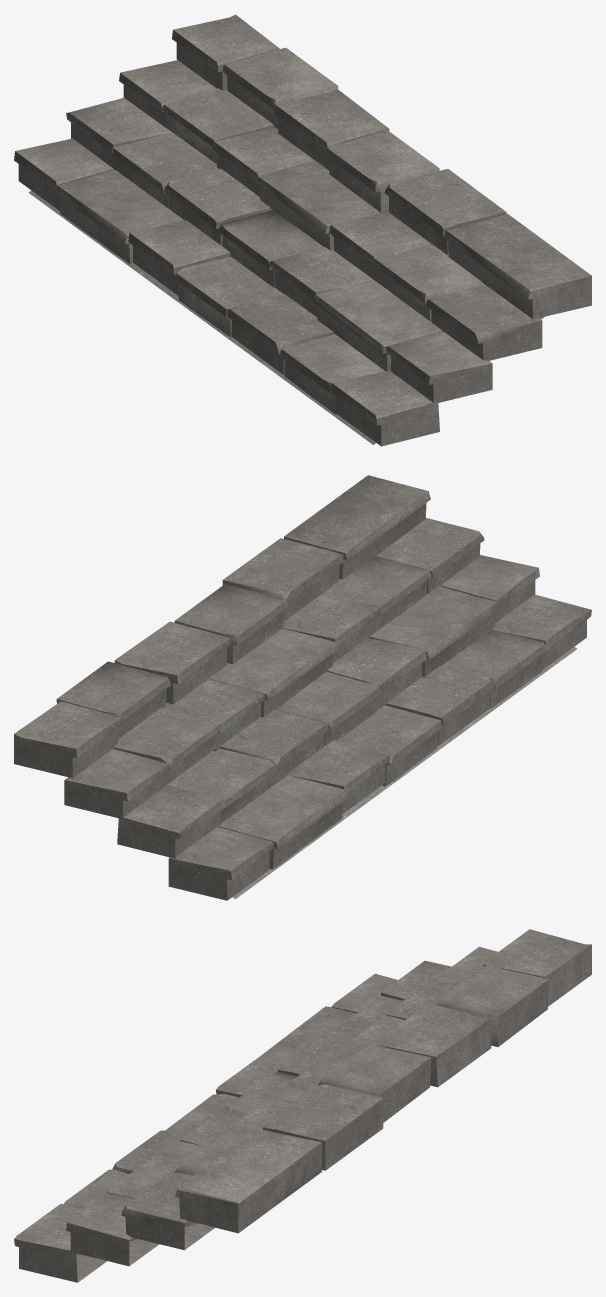
File: SM_Stairs_B_01.fbx
3 renders of one model, top to bottom at view 1: azimuth 30°, elevation 25°; view 2: azimuth 150°, elevation 25°; view 3: azimuth 330°, elevation 25°, orthographic.
Visible parts, largest first — view 1: SM_Stairs_B_01_LOD0; view 2: SM_Stairs_B_01_LOD0; view 3: SM_Stairs_B_01_LOD0.
Part boxes in pixels (x1,y1,x2,y2): SM_Stairs_B_01_LOD0: (14,14,591,446); SM_Stairs_B_01_LOD0: (14,475,591,900); SM_Stairs_B_01_LOD0: (14,929,591,1282).
Size of the model in its own units: 217 by 600 by 110.
